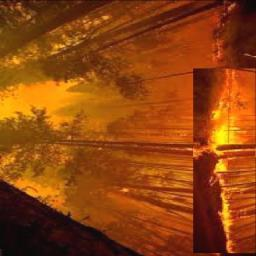Heavy smoke: (2, 5, 190, 228)
Medium fire: (192, 61, 256, 251)
